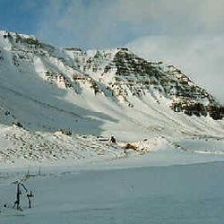neutral: (1, 7, 224, 213)
